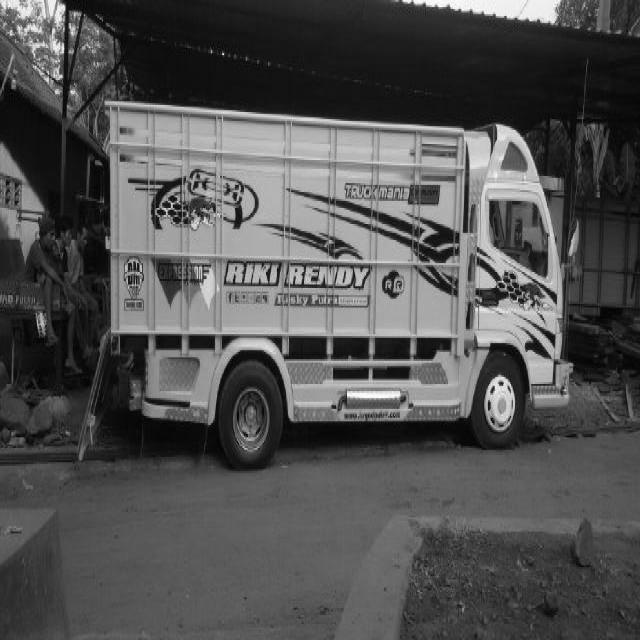truck: (452, 100, 588, 460)
